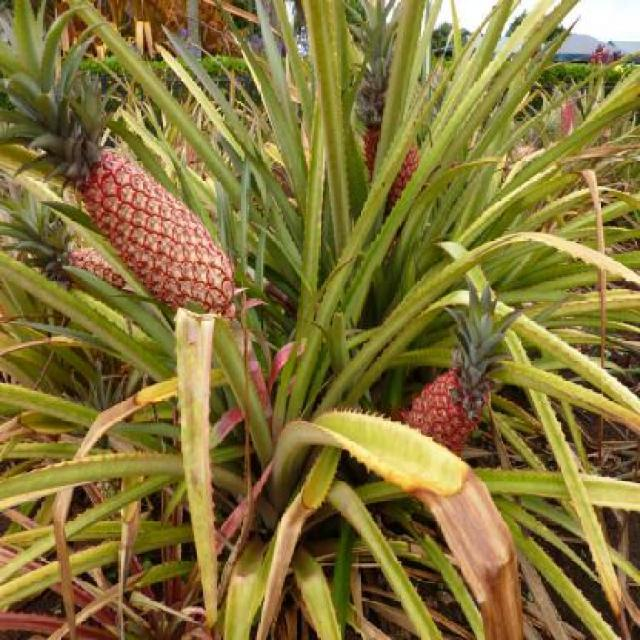Pineapple: (0, 0, 242, 323), (400, 278, 526, 457), (340, 0, 431, 237), (2, 172, 128, 302), (420, 64, 466, 184), (562, 81, 578, 137)
